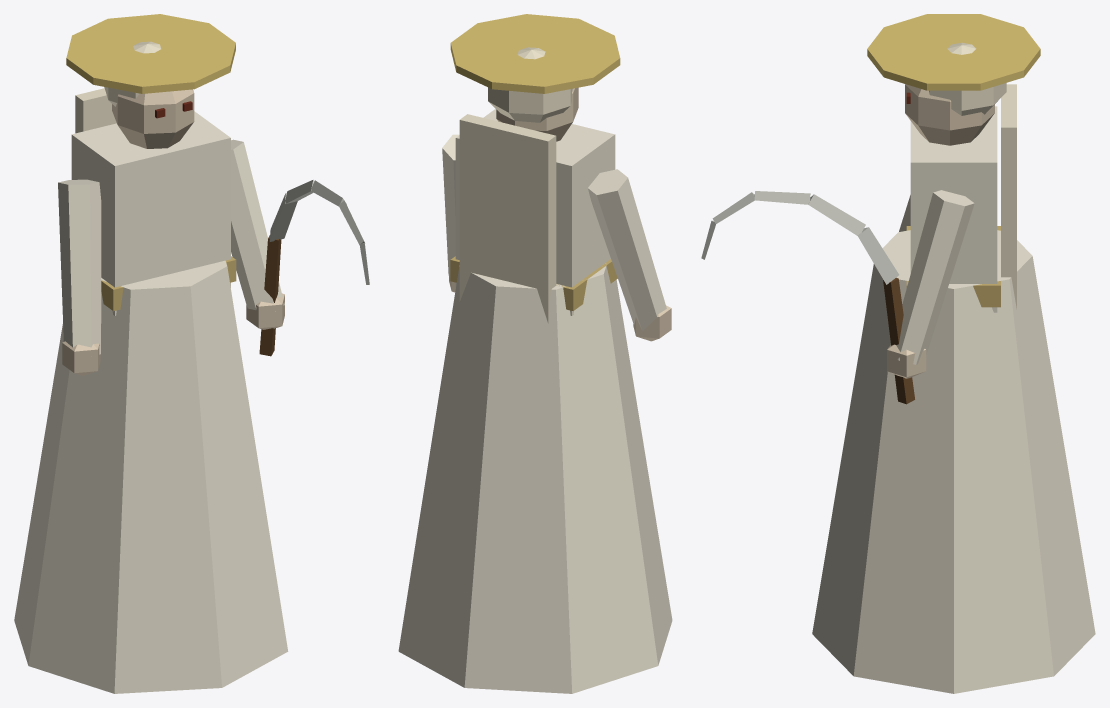
Rendered from mittagsfrau.glb.
3 renders of one model, left to right at view 1: azimuth 30°, elevation 25°; view 2: azimuth 150°, elevation 25°; view 3: azimuth 270°, elevation 25°, orthographic.
Size of the model in its own units: 0.756 by 1.73 by 1.05.
Materials: 1 (1 with a texture image).
